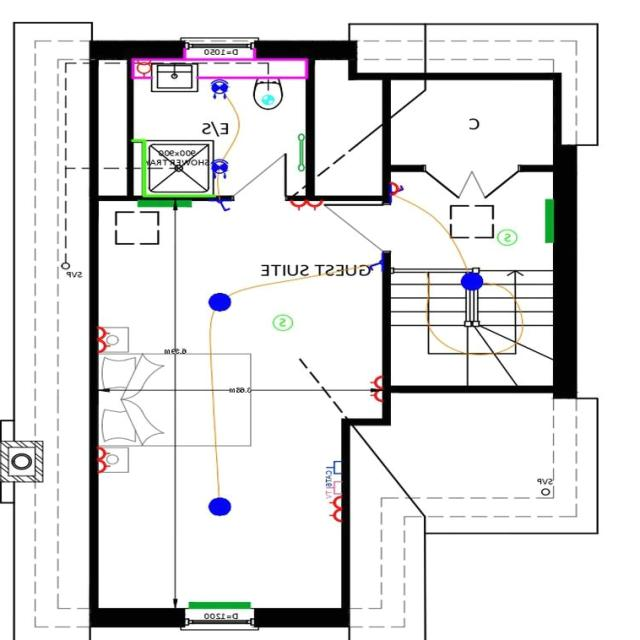Cat 6 Data Socket: (315, 459, 343, 477)
Ceiling Mounted Continuous Extract Fan With Boost Mode Activated By Light Switch: (254, 87, 278, 108)
Co-Ax TV Socket: (312, 479, 341, 495)
Double Socket: (95, 322, 114, 359), (363, 374, 383, 406), (96, 440, 111, 479), (319, 494, 343, 518), (286, 198, 324, 210)
Full Height Tiling: (132, 132, 215, 198)
Light Switch: (389, 183, 409, 199), (213, 198, 231, 212)
Low Energy Downlighter: (203, 73, 234, 103), (207, 152, 233, 182)
Low Energy Pendant Light: (200, 482, 242, 517), (458, 266, 488, 295), (205, 287, 234, 315)
Mains Wired Smoke Detector: (266, 305, 298, 334), (494, 219, 519, 250)
Radiator: (127, 196, 193, 211), (538, 192, 554, 252), (182, 597, 254, 610)
Shaver Socket: (131, 57, 154, 80)
Single Socket: (389, 179, 407, 198)
